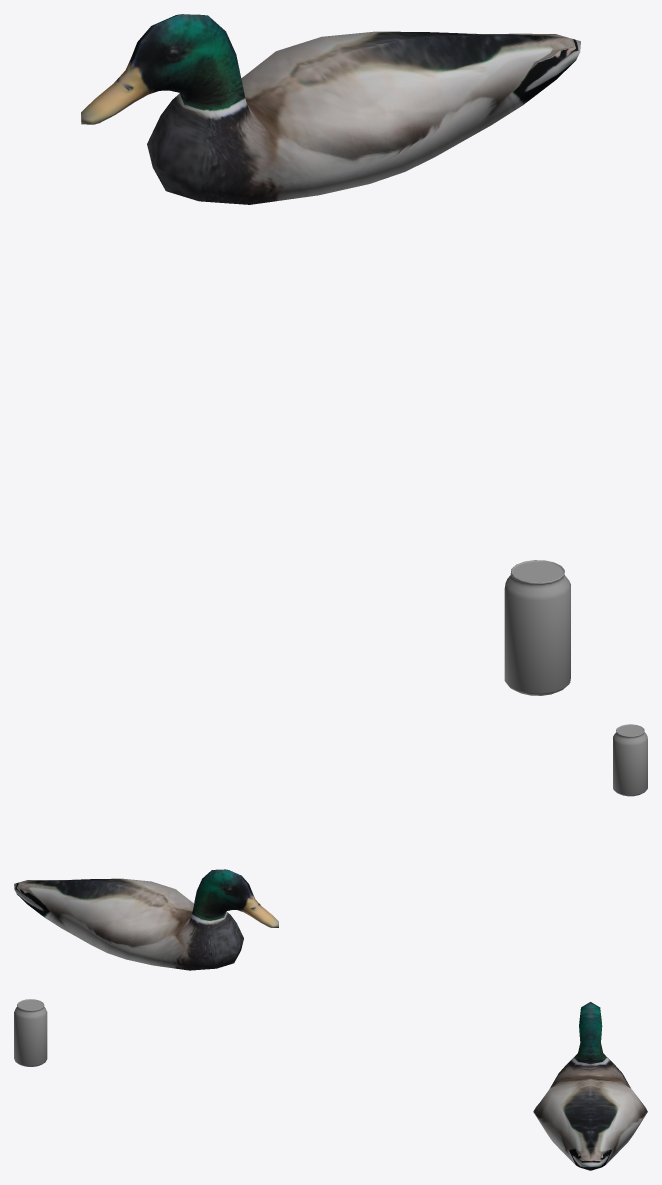
The model's file is ducktrash.gltf.glb.
3 renders of one model, top to bottom at view 1: azimuth 30°, elevation 25°; view 2: azimuth 150°, elevation 25°; view 3: azimuth 270°, elevation 25°, orthographic. The views are drawn at different scales.
Visible parts, largest first — view 1: duck.001, can; view 2: duck.001, can; view 3: duck.001, can.
Boxes of the visible parts, x1=… form: duck.001: x1=81, y1=14, x2=580, y2=204; can: x1=504, y1=560, x2=570, y2=695; duck.001: x1=14, y1=869, x2=278, y2=970; can: x1=613, y1=724, x2=647, y2=796; duck.001: x1=533, y1=1002, x2=647, y2=1170; can: x1=14, y1=999, x2=47, y2=1066.
Size of what is drawn, in the model's own units: 0.7097 by 0.2264 by 1.23.
2 materials, 1 textured.
